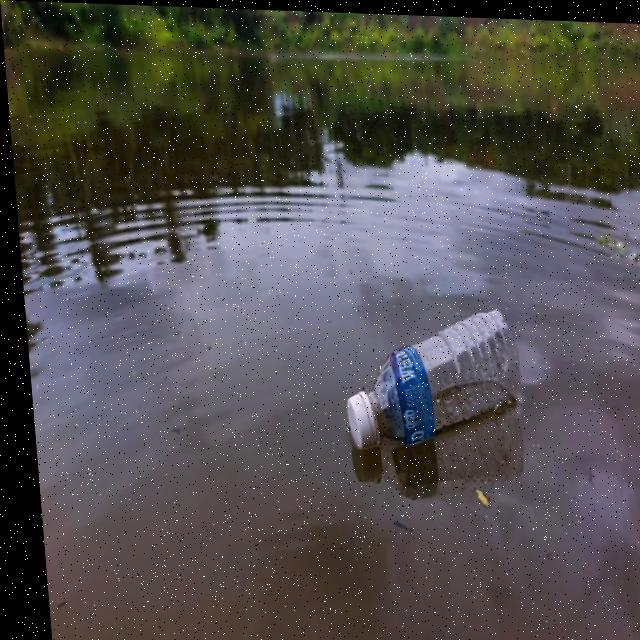waterbottle: (337, 303, 543, 462)
